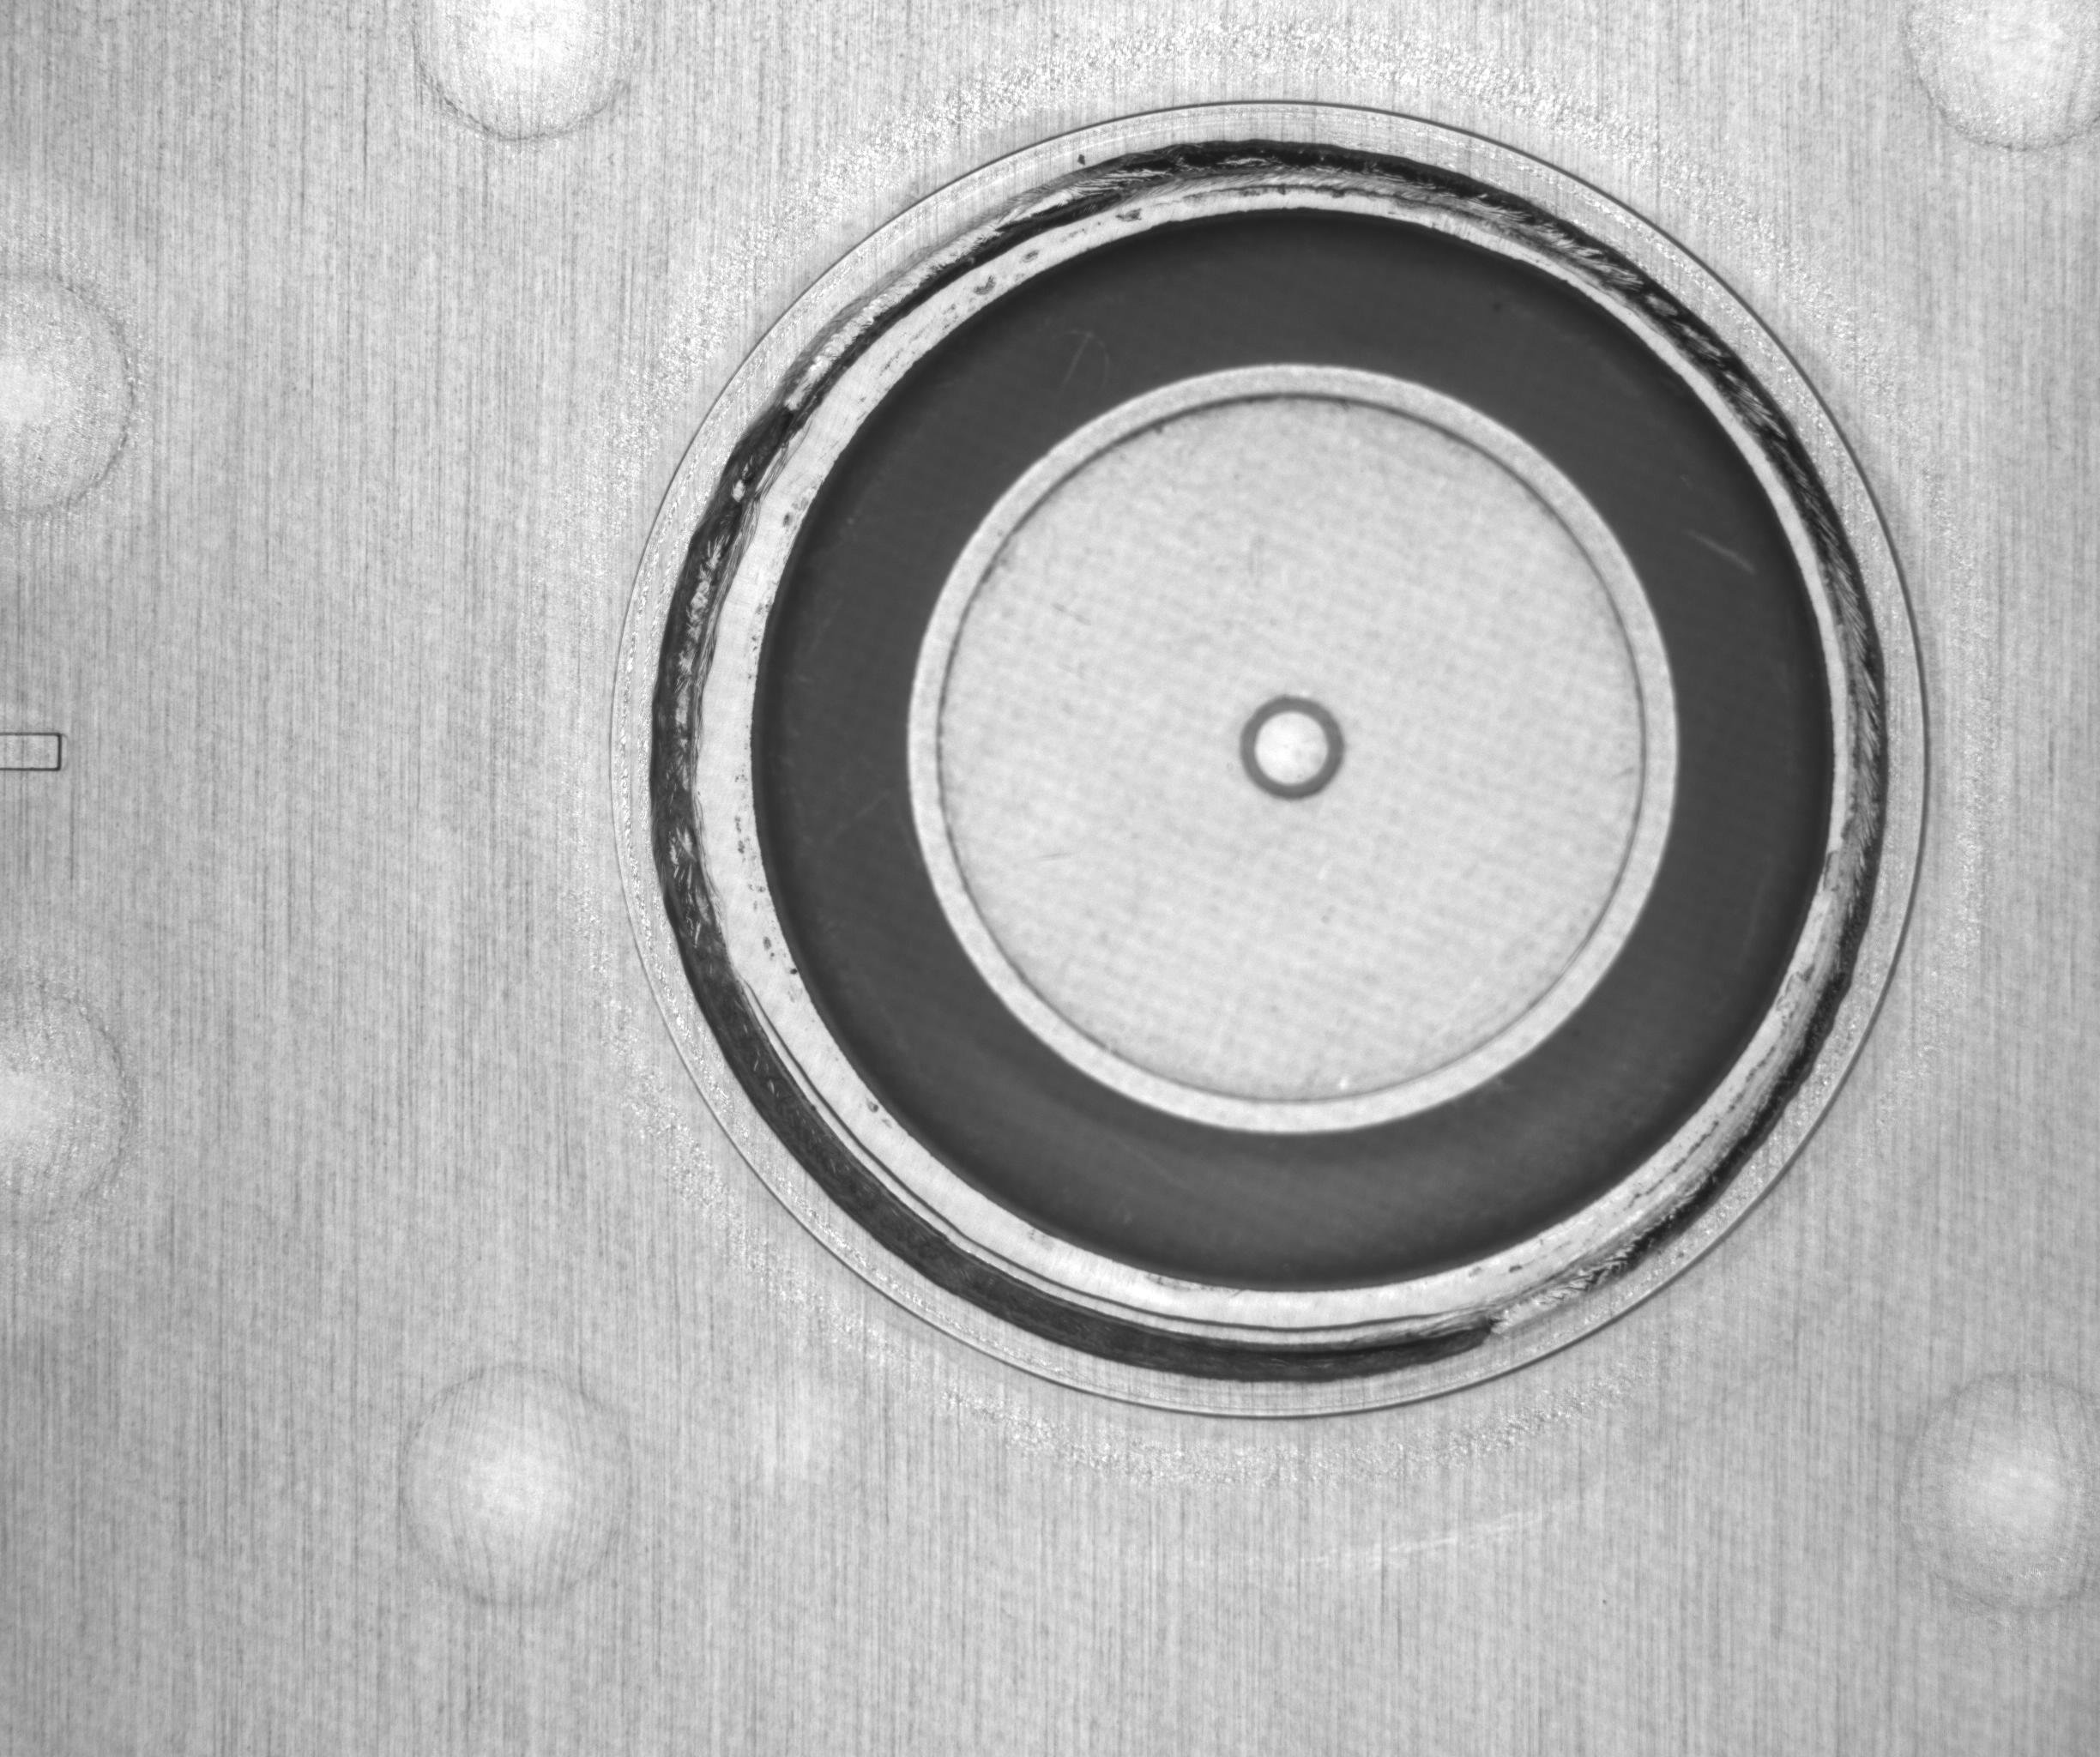weldtoohigh: (588, 96, 1945, 1422)
